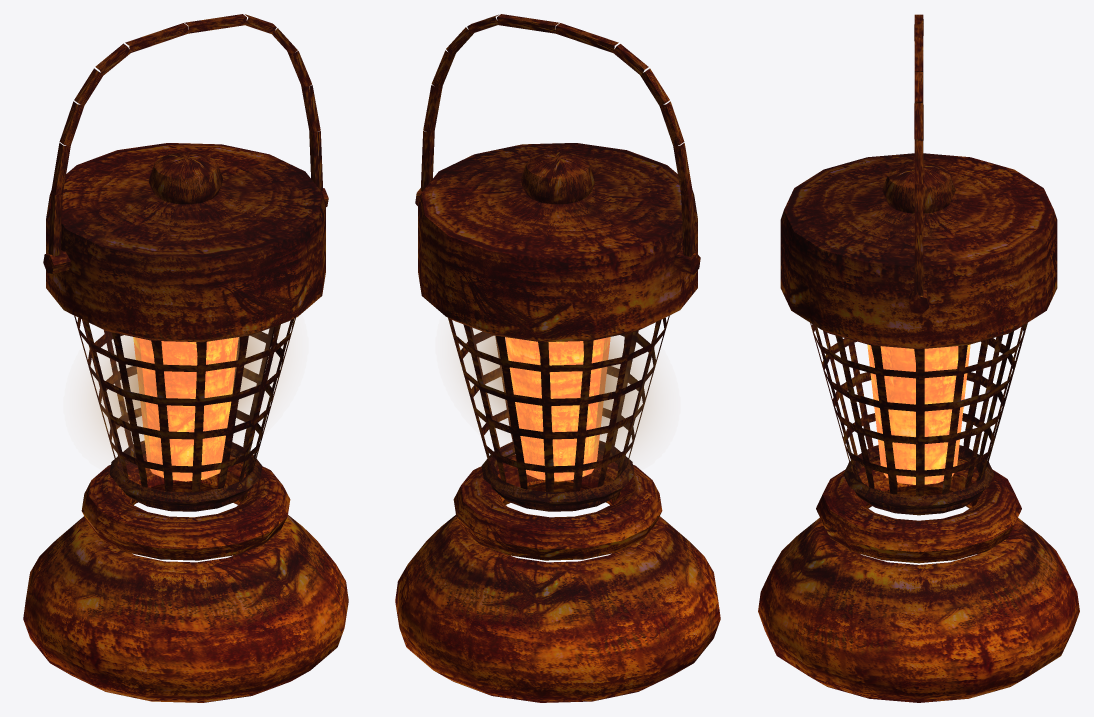
The model's file is mm7_deco_torch02_free.glb.
3 views of the same model, side by side, from view 1: azimuth 30°, elevation 25°; view 2: azimuth 150°, elevation 25°; view 3: azimuth 270°, elevation 25° (orthographic). The views are drawn at different scales.
Parts seen in each view (by area): view 1: Lantern; view 2: Lantern; view 3: Lantern.
Part boxes in pixels (left/top/right/bottom): Lantern: left=23, top=14, right=348, bottom=702; Lantern: left=395, top=14, right=720, bottom=702; Lantern: left=758, top=14, right=1079, bottom=702.
Bounding box in the file's own units: 0.8813 × 1.56 × 0.7295.
4 materials, 4 textured.
